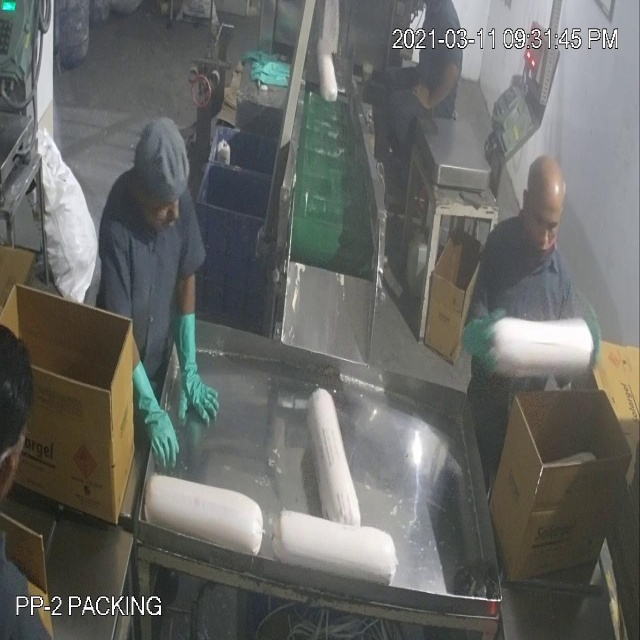Guantes: (124, 352, 189, 484), (171, 306, 216, 433)
Sin_guantes: (415, 66, 464, 122)
